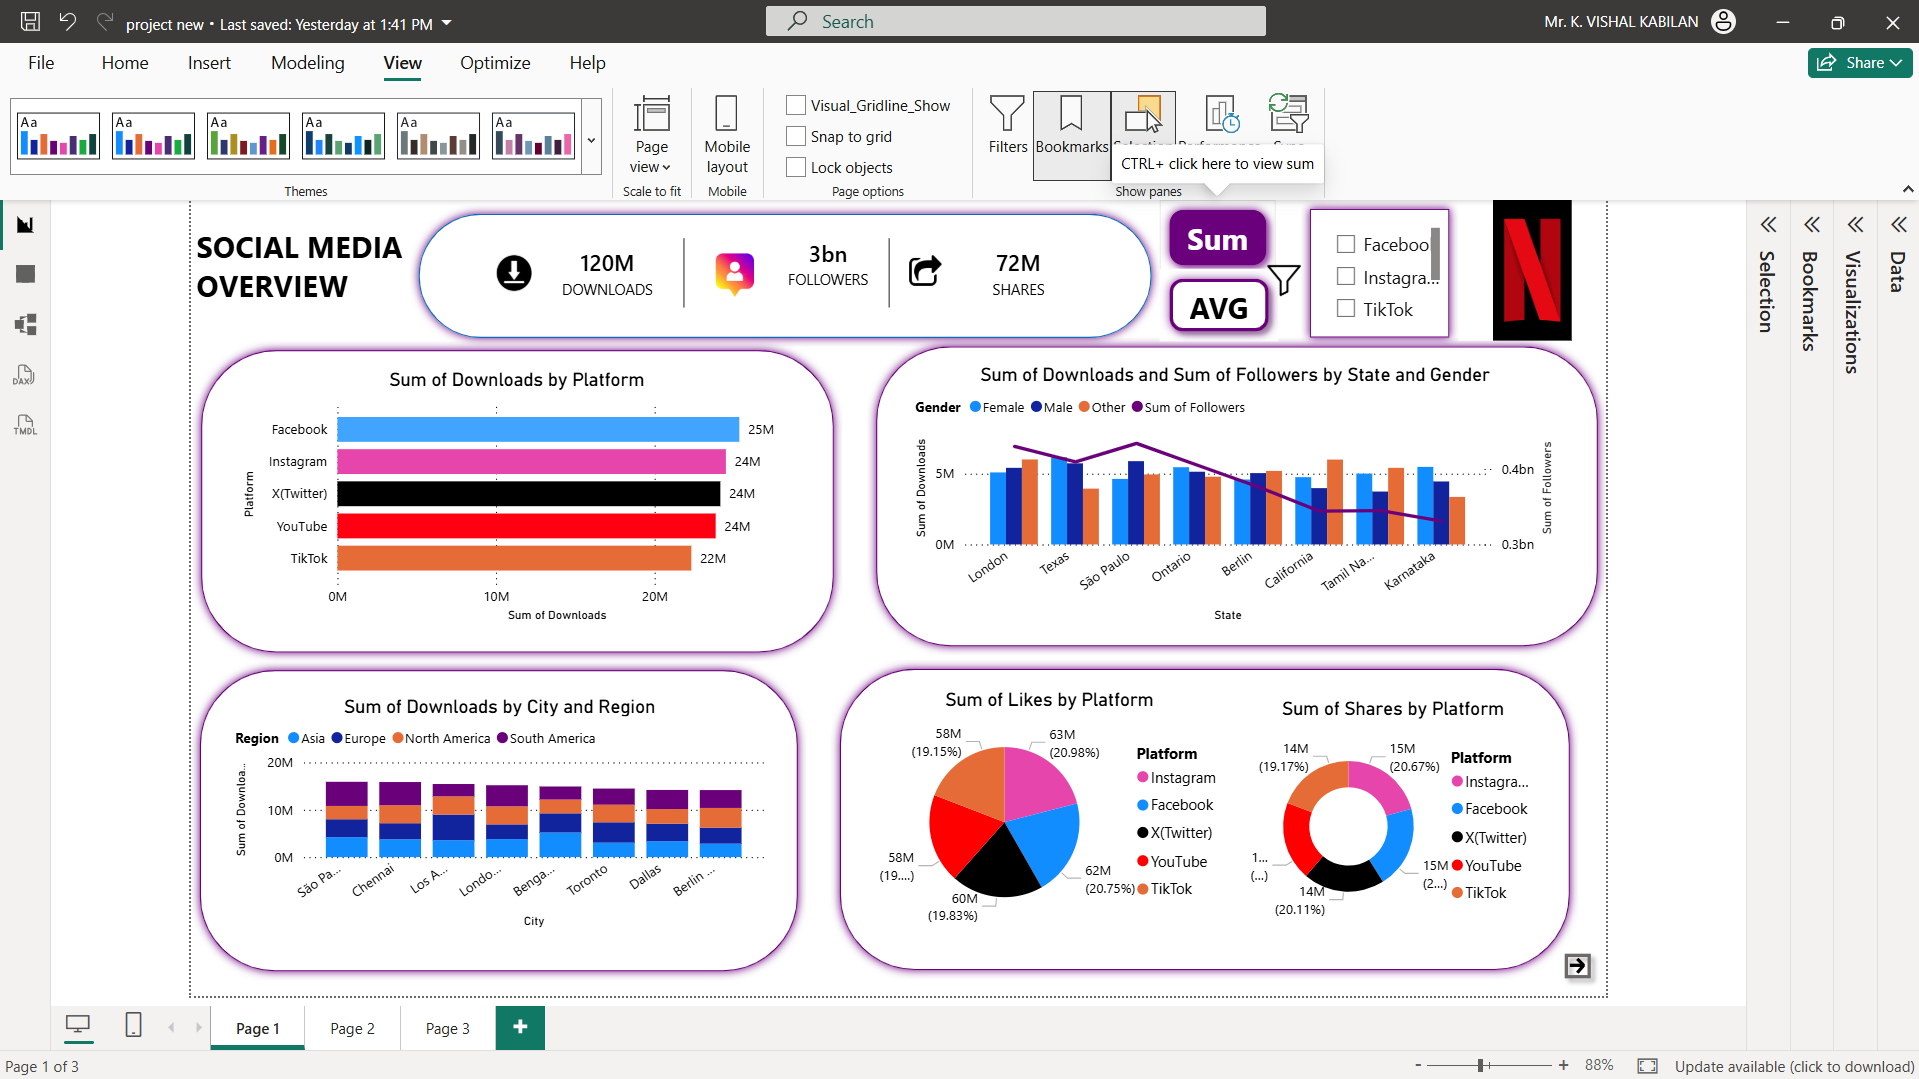

The page's visual inventory and layout, read from the dashboard file:
{"tool":"powerbi","page":{"name":"Page 1","canvas":[1280,720],"ordinal":0},"visuals":[{"type":"shape","box":[1003.9,0,142.2,132.5],"z":0},{"type":"cardVisual","title":"sum card","fields":{"Data":["Sum(SocialMedia_Flat_Joined.Downloads)","Sum(SocialMedia_Flat_Joined.Followers)","Sum(SocialMedia_Flat_Joined.Shares)"]},"box":[242.7,18.1,591.2,96.2],"z":0,"group":"g2"},{"type":"shape","box":[0,417.1,557,288.4],"z":0,"group":"g1"},{"type":"shape","box":[198,4.2,679,128.3],"z":1000},{"type":"shape","box":[1.2,127.6,588.3,289.6],"z":1000,"group":"g1"},{"type":"barChart","fields":{"Category":["SocialMedia_Flat_Joined.Platform"],"Y":["Sum(SocialMedia_Flat_Joined.Downloads)"]},"box":[41.5,152.9,505.6,234],"z":1000,"group":"g2"},{"type":"group","id":"g1","title":"shapes","box":[0,124.1,1280,581.4],"z":2000},{"type":"shape","box":[578.8,416.2,676.3,288.4],"z":2000,"group":"g1"},{"type":"lineStackedColumnComboChart","fields":{"Y":["Sum(SocialMedia_Flat_Joined.Downloads)"],"Category":["SocialMedia_Flat_Joined.City"],"Series":["SocialMedia_Flat_Joined.Region"]},"box":[34.9,448.3,488.4,215.6],"z":2000,"group":"g2"},{"type":"textbox","box":[0,19.5,198,104.6],"z":3000},{"type":"shape","box":[611.1,124.1,668.9,287.3],"z":3000,"group":"g1"},{"type":"lineClusteredColumnComboChart","fields":{"Category":["SocialMedia_Flat_Joined.State"],"Series":["SocialMedia_Flat_Joined.Gender"],"Y2":["Sum(SocialMedia_Flat_Joined.Followers)"],"Y":["Sum(SocialMedia_Flat_Joined.Downloads)"]},"box":[650,148.1,588.4,238.4],"z":3000,"group":"g2"},{"type":"image","box":[1146.1,0,133.9,126.9],"z":4000},{"type":"pieChart","fields":{"Category":["SocialMedia_Flat_Joined.Platform"],"Y":["Sum(SocialMedia_Flat_Joined.Likes)"]},"box":[611.9,442.6,329.6,222.5],"z":4000,"group":"g2"},{"type":"donutChart","fields":{"Category":["SocialMedia_Flat_Joined.Platform"],"Y":["Sum(SocialMedia_Flat_Joined.Shares)"]},"box":[949.2,450,274.8,214.4],"z":5000,"group":"g2"},{"type":"group","id":"g2","title":"sum","box":[34.9,18.1,1203.5,647],"z":6000},{"type":"actionButton","box":[876.3,0,105.2,67.8],"z":8000},{"type":"actionButton","box":[876.3,62.2,107.4,65.6],"z":9000},{"type":"image","box":[973.5,57.7,30.5,30.5],"z":10000},{"type":"slicer","fields":{"Values":["SocialMedia_Flat_Joined.Platform"]},"box":[1023.4,20.9,111.5,93.4],"z":11000},{"type":"actionButton","box":[1233.3,673.1,41.6,40.3],"z":13000}]}

Visuals, with their boxes on the page's 1280x720 design canvas (x1, y1, x2, y2). These are canvas units, not pixel positions in the 1919x1079 screenshot, which may show the page scaled, cropped or inside an application window:
shape: BBox(1004, 0, 1146, 132)
"sum card" cardVisual: BBox(243, 18, 834, 114)
shape: BBox(0, 417, 557, 706)
shape: BBox(198, 4, 877, 132)
shape: BBox(1, 128, 590, 417)
barChart - SocialMedia_Flat_Joined.Platform x Sum(SocialMedia_Flat_Joined.Downloads): BBox(42, 153, 547, 387)
"shapes" group: BBox(0, 124, 1280, 706)
shape: BBox(579, 416, 1255, 705)
lineStackedColumnComboChart - Sum(SocialMedia_Flat_Joined.Downloads) x SocialMedia_Flat_Joined.City: BBox(35, 448, 523, 664)
textbox: BBox(0, 20, 198, 124)
shape: BBox(611, 124, 1280, 411)
lineClusteredColumnComboChart - SocialMedia_Flat_Joined.State x SocialMedia_Flat_Joined.Gender: BBox(650, 148, 1238, 386)
image: BBox(1146, 0, 1280, 127)
pieChart - SocialMedia_Flat_Joined.Platform x Sum(SocialMedia_Flat_Joined.Likes): BBox(612, 443, 942, 665)
donutChart - SocialMedia_Flat_Joined.Platform x Sum(SocialMedia_Flat_Joined.Shares): BBox(949, 450, 1224, 664)
"sum" group: BBox(35, 18, 1238, 665)
actionButton: BBox(876, 0, 982, 68)
actionButton: BBox(876, 62, 984, 128)
image: BBox(974, 58, 1004, 88)
slicer - SocialMedia_Flat_Joined.Platform: BBox(1023, 21, 1135, 114)
actionButton: BBox(1233, 673, 1275, 713)
